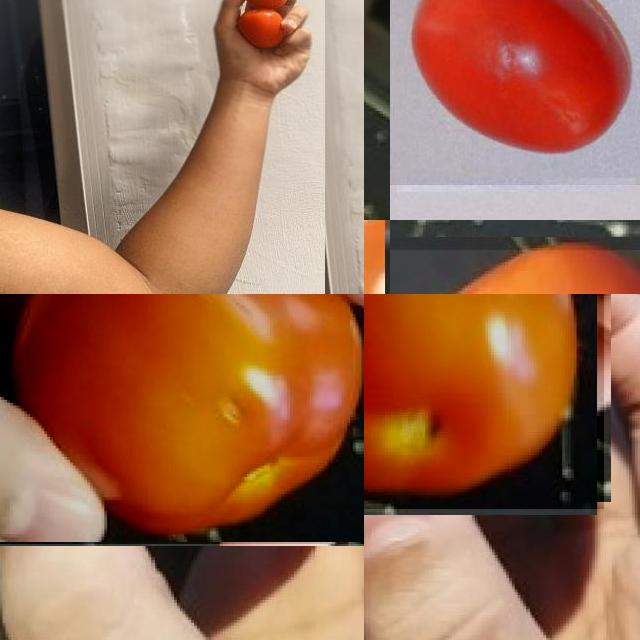Fresh Tomato: (0, 294, 364, 544), (364, 294, 604, 508), (390, 0, 640, 185)
